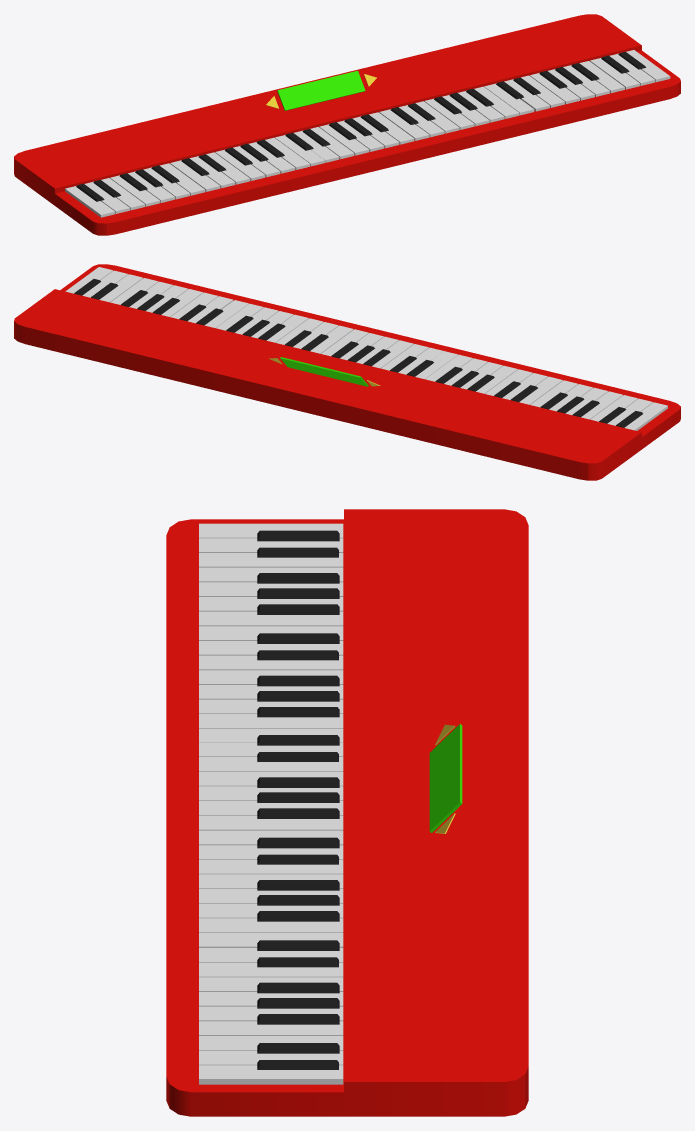
The model's file is bigger_piano.gltf.
3 renders of one model, top to bottom at view 1: azimuth 30°, elevation 25°; view 2: azimuth 150°, elevation 25°; view 3: azimuth 270°, elevation 25°, orthographic. The views are drawn at different scales.
Visible parts, largest first — view 1: Piano Frame, Screen, Key_C1, Key_C2, Key_C4, Key_C5, Key_C6, Key_C3, Key_B2, Key_B3, Key_B1, Key_B4 (+28 smaller); view 2: Piano Frame, Screen, Key_C1, Key_C4, Key_C2, Key_C6, Key_C5, Key_B2, Key_C3, Key_B4, Key_B1, Key_B3 (+28 smaller); view 3: Piano Frame, Screen, Key_E6, Key_B3, Key_B1, Key_B2, Key_B4, Key_B5, Key_E2, Key_E4, Key_E5, Key_E1 (+53 smaller).
Boxes of the visible parts, left/top/right/bottom form: Piano Frame: left=14, top=14, right=680, bottom=235; Screen: left=277, top=70, right=365, bottom=110; Key_C1: left=65, top=186, right=115, bottom=217; Key_C2: left=170, top=160, right=220, bottom=191; Key_C4: left=379, top=109, right=429, bottom=140; Key_C5: left=484, top=83, right=534, bottom=115; Key_C6: left=590, top=58, right=640, bottom=89; Key_C3: left=275, top=135, right=324, bottom=166; Key_B2: left=265, top=137, right=310, bottom=169; Key_B3: left=369, top=112, right=414, bottom=144; Key_B1: left=160, top=163, right=205, bottom=195; Key_B4: left=474, top=86, right=519, bottom=118; Piano Frame: left=14, top=264, right=680, bottom=480; Screen: left=280, top=357, right=368, bottom=386; Key_C1: left=624, top=402, right=667, bottom=430; Key_C4: left=310, top=325, right=353, bottom=353; Key_C2: left=519, top=376, right=562, bottom=404; Key_C6: left=99, top=274, right=142, bottom=302; Key_C5: left=204, top=300, right=248, bottom=328; Key_B2: left=425, top=354, right=472, bottom=381; Key_C3: left=415, top=351, right=458, bottom=379; Key_B4: left=216, top=303, right=263, bottom=330; Key_B1: left=530, top=380, right=577, bottom=407; Key_B3: left=321, top=329, right=368, bottom=356; Piano Frame: left=166, top=509, right=528, bottom=1116; Screen: left=429, top=724, right=462, bottom=832; Key_E6: left=199, top=1065, right=343, bottom=1084; Key_B3: left=199, top=815, right=343, bottom=830; Key_B1: left=199, top=611, right=343, bottom=626; Key_B2: left=199, top=714, right=343, bottom=728; Key_B4: left=199, top=918, right=343, bottom=932; Key_B5: left=199, top=1021, right=343, bottom=1035; Key_E2: left=199, top=655, right=343, bottom=670; Key_E4: left=199, top=859, right=343, bottom=874; Key_E5: left=199, top=962, right=343, bottom=977; Key_E1: left=199, top=553, right=343, bottom=567.
Size of the model in its own units: 10.35 by 0.5553 by 2.77.
